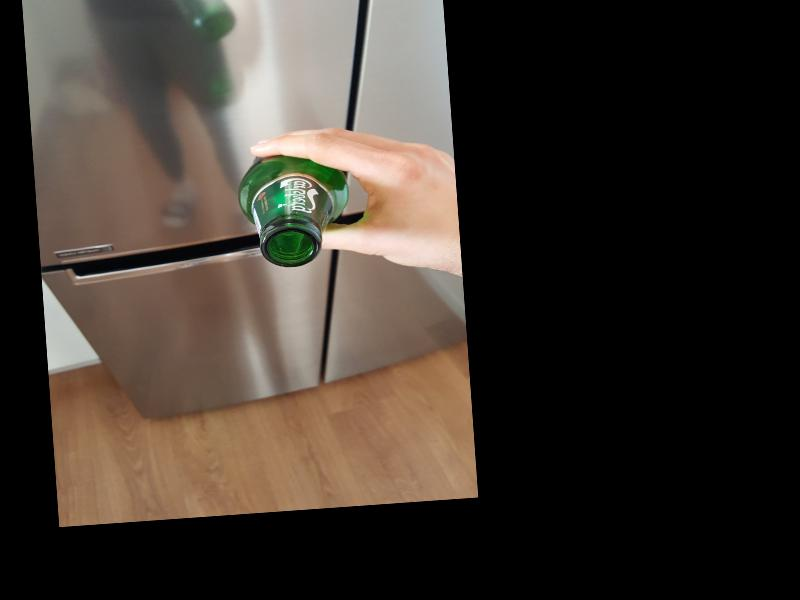Beer: (236, 150, 350, 270)
